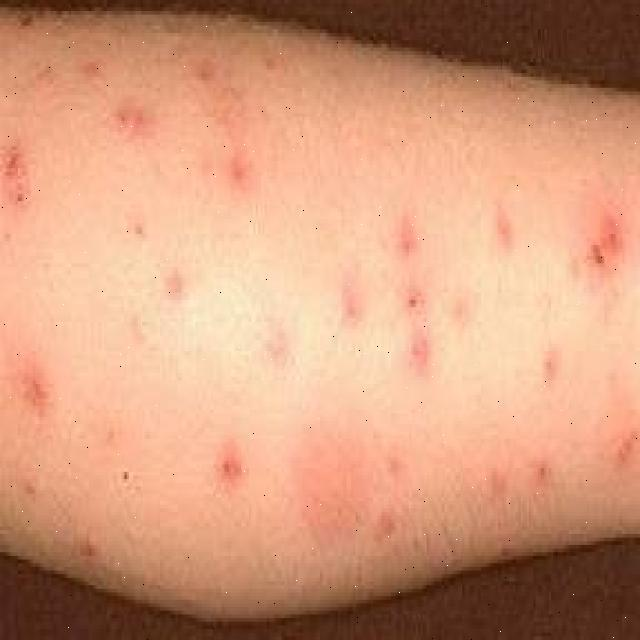tahta-kurusu: (575, 220, 640, 330), (106, 81, 163, 166), (15, 353, 67, 442), (150, 256, 212, 321), (2, 128, 46, 218), (377, 212, 428, 284), (207, 432, 241, 502)
